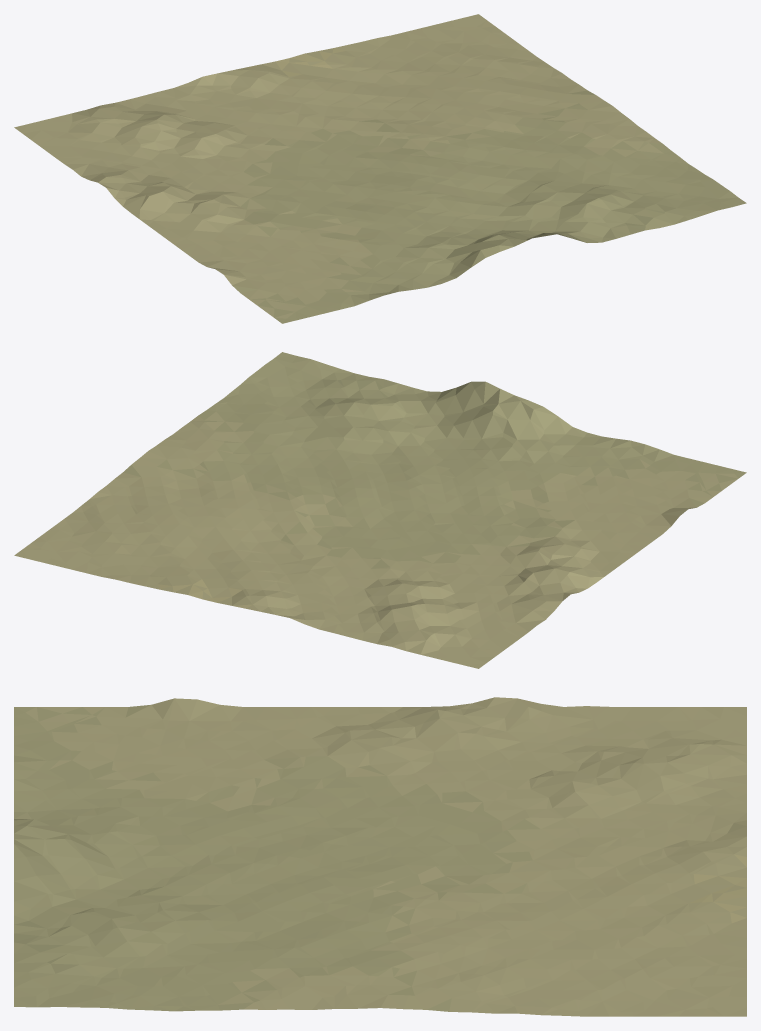
The model's file is Ground_6_-10.glb.
3 views of the same model, one above another, from view 1: azimuth 30°, elevation 25°; view 2: azimuth 150°, elevation 25°; view 3: azimuth 270°, elevation 25° (orthographic). The views are drawn at different scales.
Visible parts, largest first — view 1: Ground_6_-10; view 2: Ground_6_-10; view 3: Ground_6_-10.
Part boxes in pixels (left/top/right/bottom): Ground_6_-10: left=14, top=14, right=746, bottom=323; Ground_6_-10: left=14, top=352, right=746, bottom=668; Ground_6_-10: left=14, top=697, right=746, bottom=1016.
Size of the model in its own units: 768 by 43.04 by 768.
